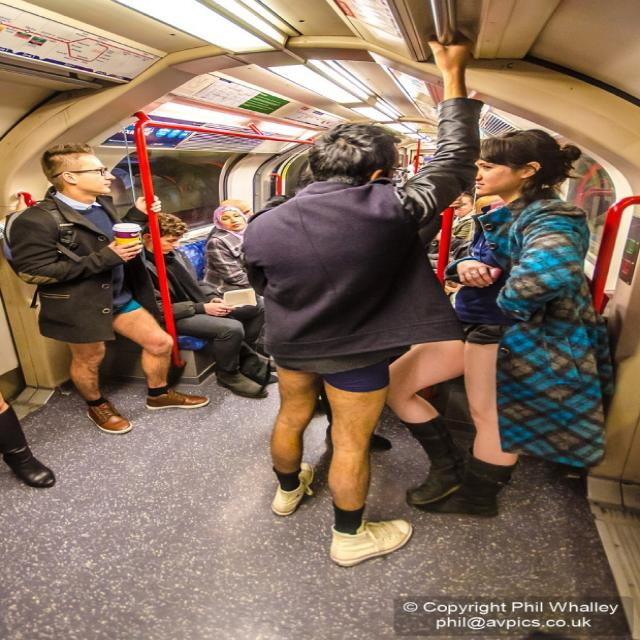body: (229, 24, 482, 572), (370, 122, 613, 522), (5, 140, 214, 438), (229, 154, 497, 286), (138, 212, 279, 399), (0, 396, 65, 488), (203, 199, 255, 245)
